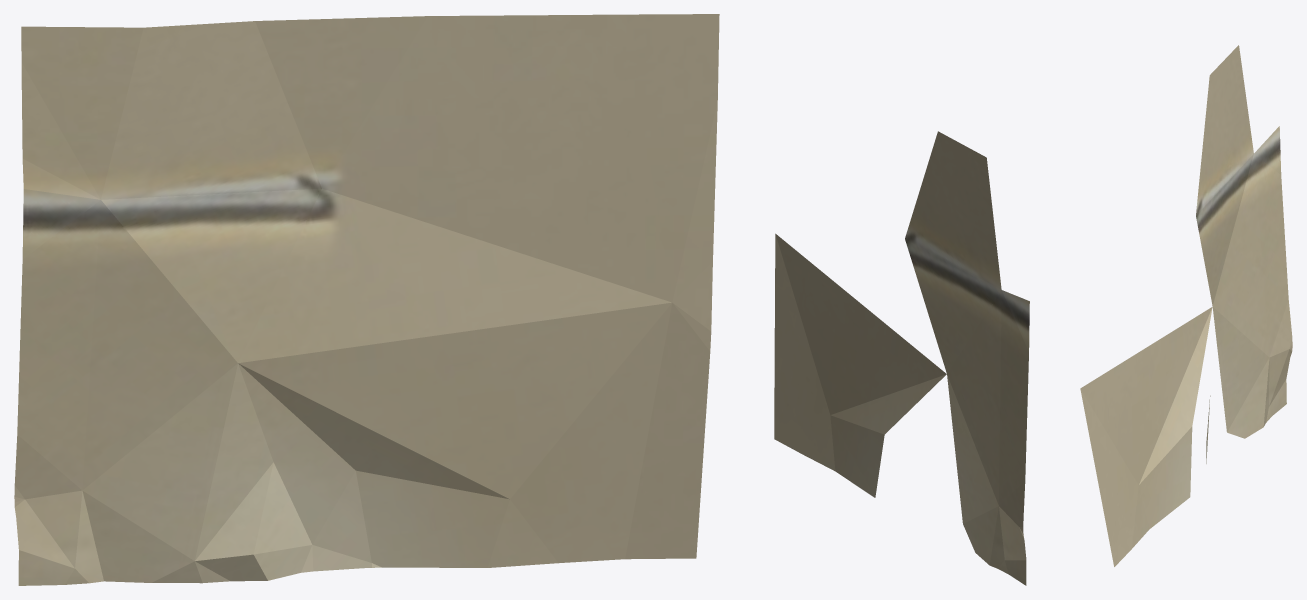
3 views of the same model, side by side, from view 1: azimuth 30°, elevation 25°; view 2: azimuth 150°, elevation 25°; view 3: azimuth 270°, elevation 25° (orthographic). The views are drawn at different scales.
Size of the model in its own units: 0.8374 by 0.8374 by 0.4557.
Materials: 3 (3 with a texture image).
